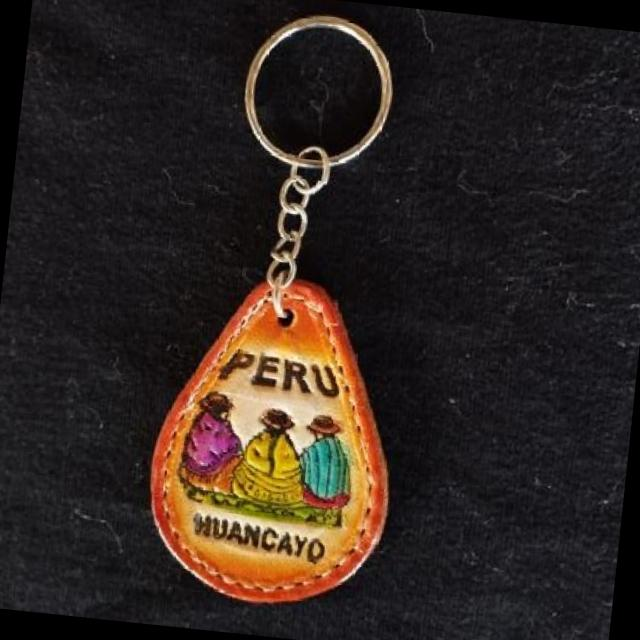Llavero: (136, 264, 412, 616)
